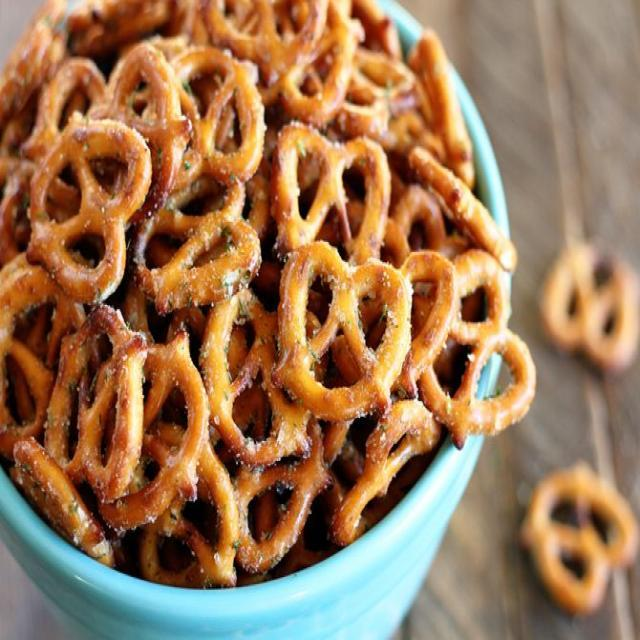Salatini: (10, 7, 534, 579)
